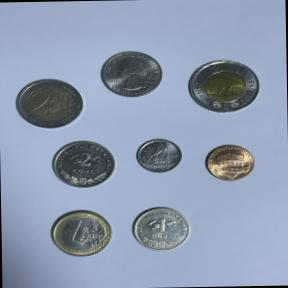1 Euro: (46, 206, 116, 262)
2 Euro: (11, 74, 89, 135)
Canda-10cent-: (132, 134, 186, 178)
Canda-2Dollar-: (181, 56, 265, 120)
Croatia-2Kune-: (50, 137, 120, 191)
US-1cent-: (202, 140, 258, 186)
US-25cent-: (97, 47, 166, 101)
